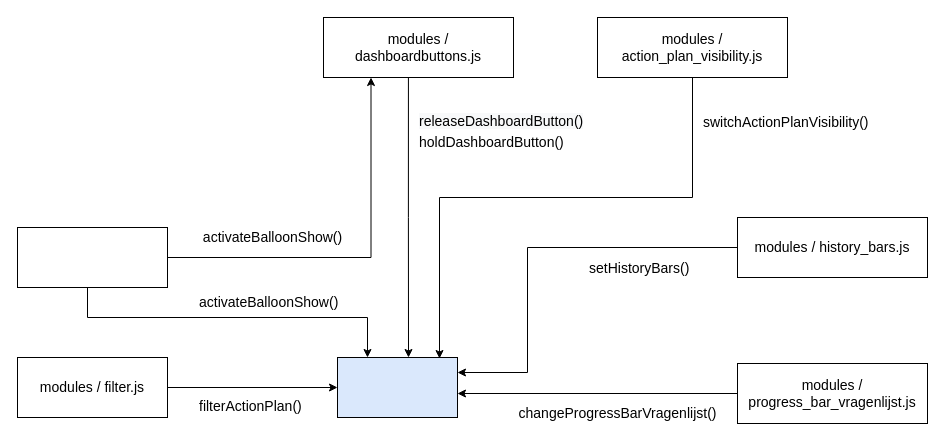
The diagram is 945 pixels wide and 441 high, and some of its shapes have lost their labels. The shapes that lost their labels are listed below. From the top down, each one's box as (x1, y1, x2, y2) in pixels, then its label:
(16, 226, 168, 288): modules / balloons.js
(336, 356, 458, 418): app.js
